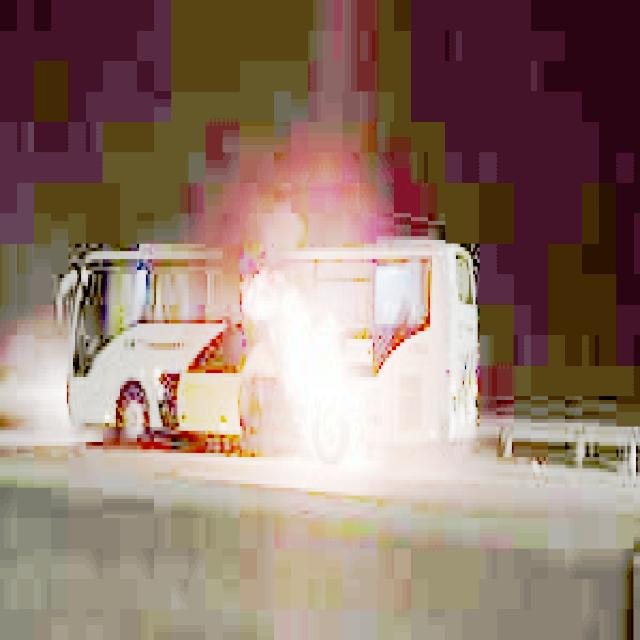api: (241, 260, 386, 481)
